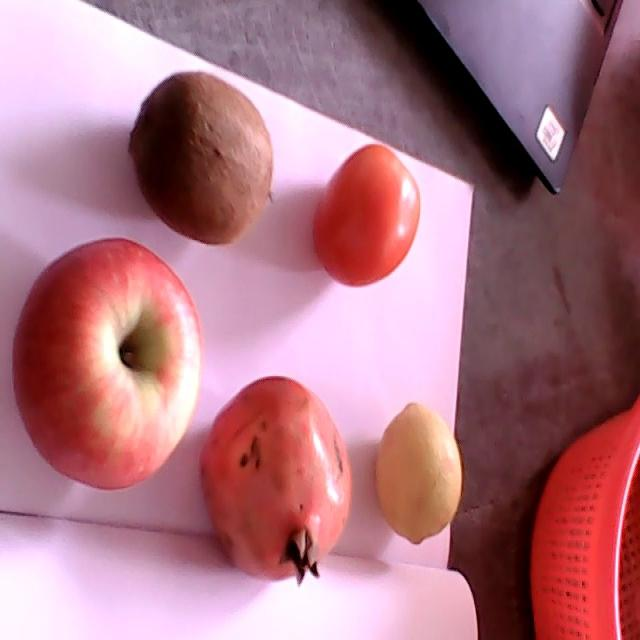apple: (11, 237, 203, 491)
kiwi: (128, 71, 274, 244)
lemon: (375, 403, 462, 543)
pomegranate: (198, 376, 353, 588)
tomato: (314, 144, 420, 285)
